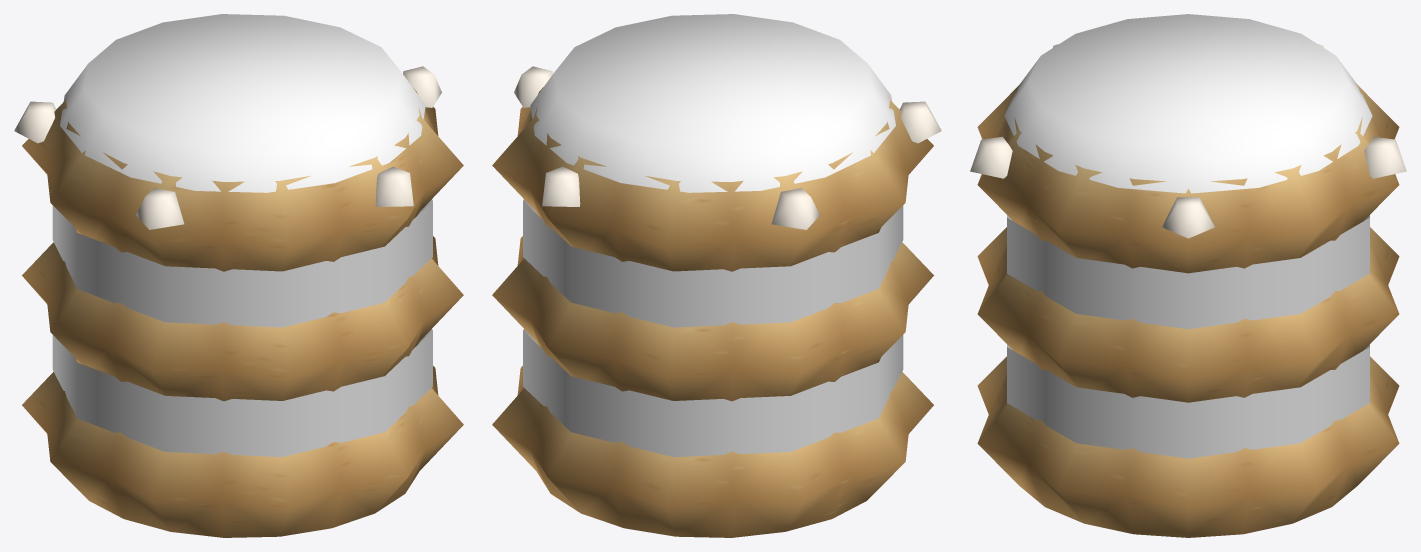
File: snack-feast.fbx
3 renders of one model, left to right at view 1: azimuth 30°, elevation 25°; view 2: azimuth 150°, elevation 25°; view 3: azimuth 270°, elevation 25°, orthographic.
Visible parts, largest first — view 1: StatSnack_Feast__Biscuit, StatSnack_Feast__Icing, StatSnack_Feast__Pearls; view 2: StatSnack_Feast__Biscuit, StatSnack_Feast__Icing, StatSnack_Feast__Pearls; view 3: StatSnack_Feast__Biscuit, StatSnack_Feast__Icing, StatSnack_Feast__Pearls.
Boxes of the visible parts, <box> form: StatSnack_Feast__Biscuit: <box>22,87,463,537</box>; StatSnack_Feast__Icing: <box>52,14,432,456</box>; StatSnack_Feast__Pearls: <box>14,66,441,229</box>; StatSnack_Feast__Biscuit: <box>492,87,933,537</box>; StatSnack_Feast__Icing: <box>523,14,903,456</box>; StatSnack_Feast__Pearls: <box>514,66,941,229</box>; StatSnack_Feast__Biscuit: <box>977,83,1399,537</box>; StatSnack_Feast__Icing: <box>1004,14,1372,458</box>; StatSnack_Feast__Pearls: <box>970,44,1406,238</box>.
Size of the model in its own units: 30.53 by 28.94 by 29.53.
